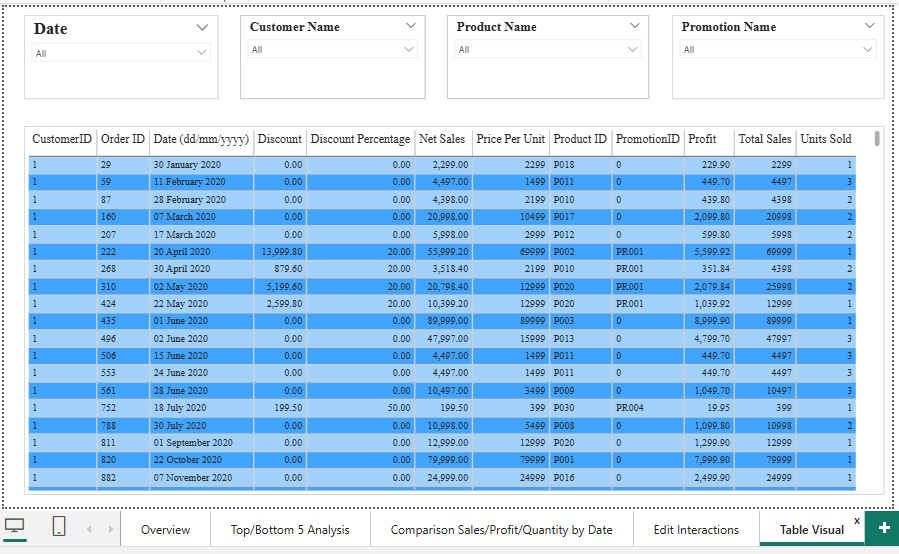

The page's visual inventory and layout, read from the dashboard file:
{"tool":"powerbi","page":{"name":"Table Visual","canvas":[1280,720],"ordinal":4},"visuals":[{"type":"tableEx","fields":{"Values":["Fact Table.CustomerID","Fact Table.Order ID","Fact Table.Date (dd/mm/yyyy)","Fact Table.Discount Value","Fact Table.Discount Percentage","Fact Table.Net Sales","Fact Table.Price Per Unit","Fact Table.Product ID","Fact Table.PromotionID","Fact Table.Profit","Fact Table.Total Sales","Fact Table.Units Sold"]},"box":[28.6,171.4,1238.6,531.4],"z":0},{"type":"slicer","fields":{"Values":["Date_Table1.Date"]},"box":[28.6,11.4,280,121.4],"z":1000},{"type":"slicer","fields":{"Values":["Dim Customers.Customer Name"]},"box":[340,11.4,267.1,121.4],"z":2000},{"type":"slicer","fields":{"Values":["Dim Product.Product Name"]},"box":[638.6,11.4,291.4,121.4],"z":3000},{"type":"slicer","fields":{"Values":["Dim Promotion.Promotion Name"]},"box":[961.4,11.4,305.7,121.4],"z":4000}]}

Visuals, with their boxes on the page's 1280x720 design canvas (x1, y1, x2, y2). These are canvas units, not pixel positions in the 899x554 screenshot, which may show the page scaled, cropped or inside an application window:
tableEx - Fact Table.CustomerID x Fact Table.Order ID: (29,171,1267,703)
slicer - Date_Table1.Date: (29,11,309,133)
slicer - Dim Customers.Customer Name: (340,11,607,133)
slicer - Dim Product.Product Name: (639,11,930,133)
slicer - Dim Promotion.Promotion Name: (961,11,1267,133)
